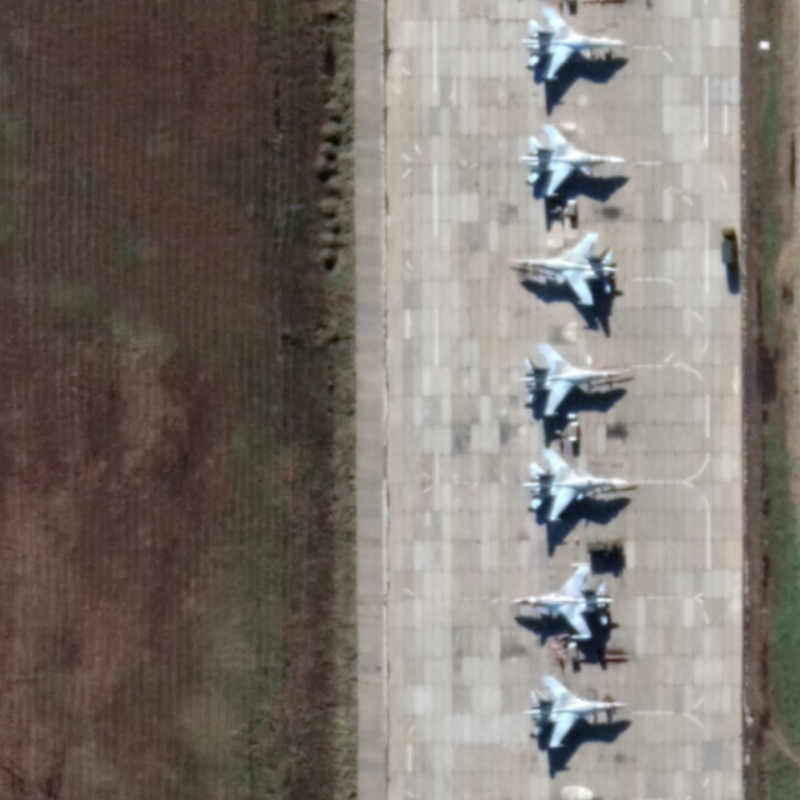A1: (510, 231, 621, 309), (509, 561, 614, 643), (519, 5, 630, 82), (517, 122, 628, 198), (517, 342, 626, 419), (524, 673, 629, 751)
A19: (521, 447, 638, 523)
